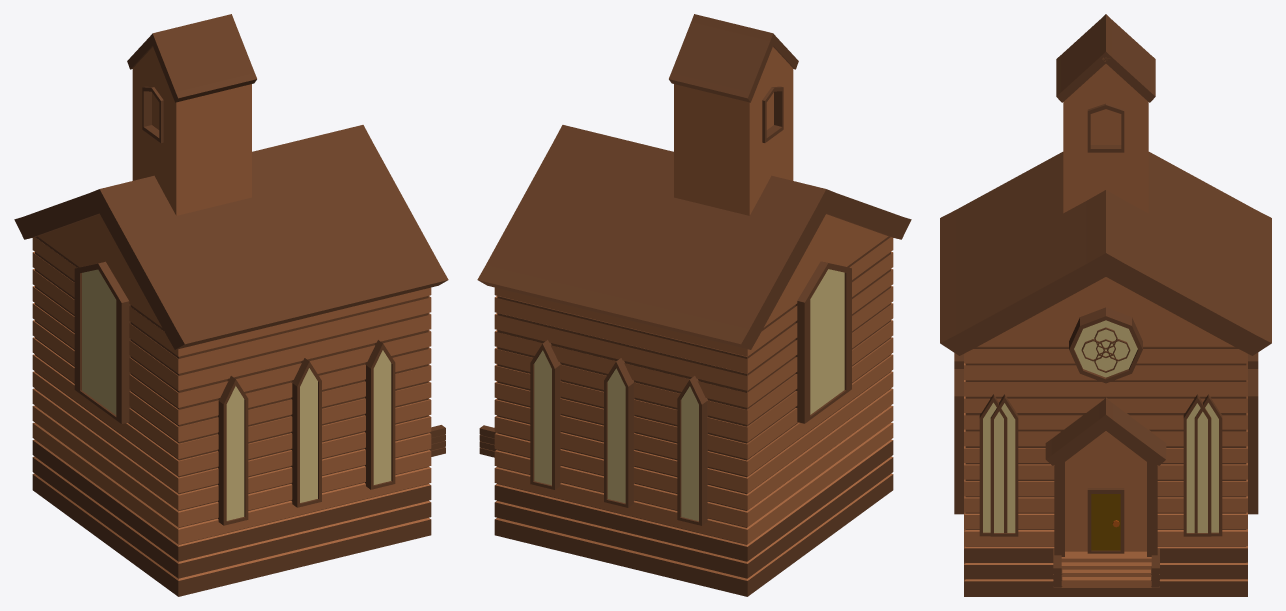
File: Church.fbx
The picture shows the model from 3 angles, left to right: view 1: azimuth 30°, elevation 25°; view 2: azimuth 150°, elevation 25°; view 3: azimuth 270°, elevation 25°; orthographic projection. The views are drawn at different scales.
Visible parts, largest first — view 1: Church; view 2: Church; view 3: Church.
Boxes of the visible parts, x1=… form: Church: x1=14, y1=14, x2=448, y2=596; Church: x1=477, y1=14, x2=911, y2=596; Church: x1=940, y1=14, x2=1271, y2=596.
Bounding box in the file's own units: 262 × 389 × 241.
